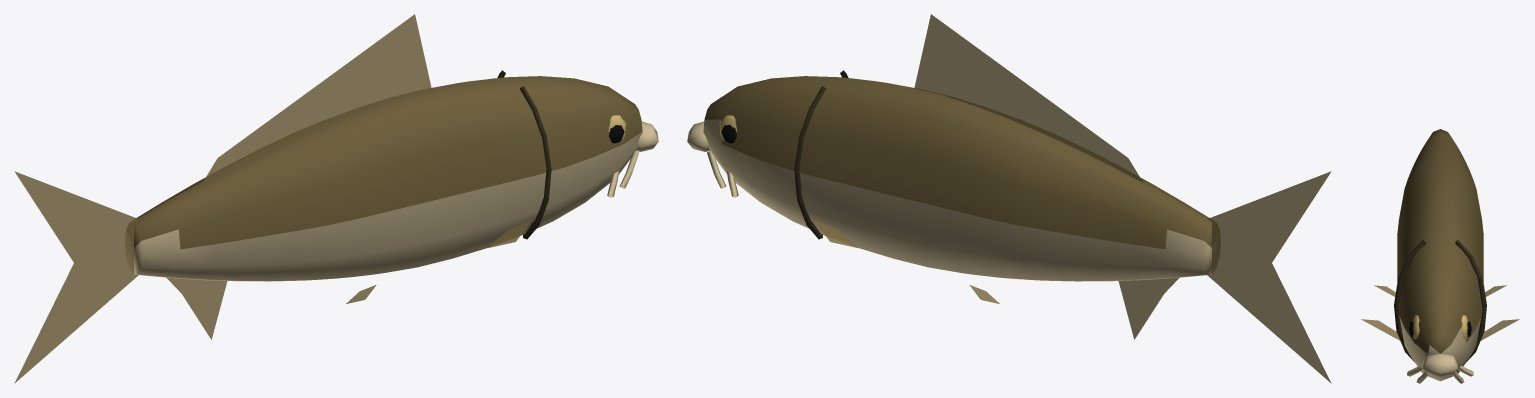
Rendered from lake-sazan-shallows-0.glb.
3 renders of one model, left to right at view 1: azimuth 30°, elevation 25°; view 2: azimuth 150°, elevation 25°; view 3: azimuth 270°, elevation 25°, orthographic. The views are drawn at different scales.
Visible parts, largest first — view 1: lake-sazan-shallows-0; view 2: lake-sazan-shallows-0; view 3: lake-sazan-shallows-0.
Part boxes in pixels (x1,y1,x2,y2): lake-sazan-shallows-0: [14, 14, 658, 383]; lake-sazan-shallows-0: [687, 14, 1331, 383]; lake-sazan-shallows-0: [1361, 129, 1519, 383].
Bounding box in the file's own units: 0.5913 × 0.243 × 0.1535.
